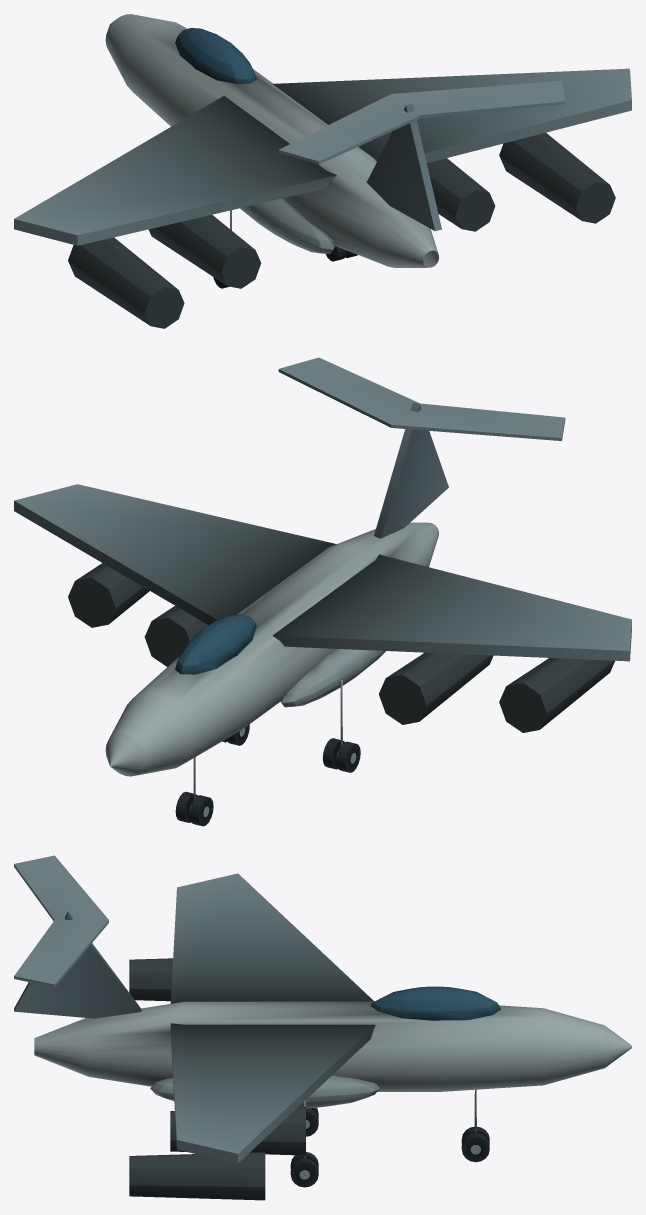
The picture shows the model from 3 angles, top to bottom: view 1: azimuth 30°, elevation 25°; view 2: azimuth 150°, elevation 25°; view 3: azimuth 270°, elevation 25°; orthographic projection. The views are drawn at different scales.
Visible parts, largest first — view 1: wing.001, cargo-fuselage, wing, nacelle.002, nacelle.003, fin, nacelle, T-tailplane.001, T-tailplane, nacelle.001, canopy, gear-sponson; view 2: wing.001, cargo-fuselage, wing, nacelle.002, nacelle, fin, T-tailplane, T-tailplane.001, nacelle.003, canopy, gear-sponson, nacelle.001; view 3: cargo-fuselage, wing, wing.001, nacelle.003, fin, canopy, T-tailplane.001, T-tailplane, gear-sponson.001, nacelle.001, nacelle.002, landing-wheel.003 (+1 smaller).
Boxes of the visible parts, x1=… form: wing.001: x1=14, y1=96, x2=336, y2=245; cargo-fuselage: x1=105, y1=14, x2=438, y2=267; wing: x1=273, y1=68, x2=631, y2=162; nacelle.002: x1=68, y1=237, x2=184, y2=328; nacelle.003: x1=499, y1=132, x2=615, y2=223; fin: x1=366, y1=104, x2=441, y2=231; nacelle: x1=148, y1=215, x2=261, y2=288; T-tailplane.001: x1=391, y1=80, x2=565, y2=118; T-tailplane: x1=278, y1=94, x2=420, y2=164; nacelle.001: x1=427, y1=158, x2=495, y2=231; canopy: x1=175, y1=28, x2=256, y2=83; gear-sponson: x1=240, y1=198, x2=335, y2=253; wing.001: x1=272, y1=554, x2=631, y2=661; cargo-fuselage: x1=105, y1=522, x2=439, y2=776; wing: x1=14, y1=484, x2=336, y2=625; nacelle.002: x1=499, y1=658, x2=614, y2=732; nacelle: x1=379, y1=652, x2=493, y2=724; fin: x1=374, y1=402, x2=448, y2=538; T-tailplane: x1=391, y1=403, x2=565, y2=440; T-tailplane.001: x1=278, y1=357, x2=419, y2=427; nacelle.003: x1=68, y1=563, x2=149, y2=627; canopy: x1=175, y1=614, x2=256, y2=674; gear-sponson: x1=280, y1=649, x2=385, y2=707; nacelle.001: x1=144, y1=606, x2=208, y2=666; cargo-fuselage: x1=34, y1=1001, x2=631, y2=1091; wing: x1=170, y1=1023, x2=375, y2=1163; wing.001: x1=170, y1=873, x2=374, y2=1003; nacelle.003: x1=129, y1=1152, x2=265, y2=1200; fin: x1=14, y1=911, x2=141, y2=1018; canopy: x1=371, y1=986, x2=501, y2=1020; T-tailplane.001: x1=14, y1=920, x2=108, y2=987; T-tailplane: x1=14, y1=855, x2=108, y2=921; gear-sponson.001: x1=150, y1=1075, x2=379, y2=1108; nacelle.001: x1=170, y1=1107, x2=305, y2=1155; nacelle.002: x1=129, y1=958, x2=172, y2=1001; landing-wheel.003: x1=290, y1=1158, x2=318, y2=1187.
Bounding box in the file's own units: 51.8 × 20.92 × 48.23.
